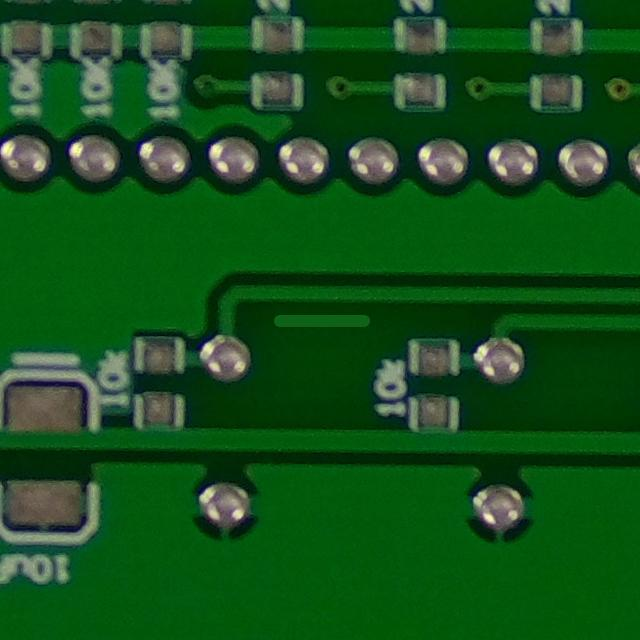spurious_copper: (262, 294, 379, 346)
